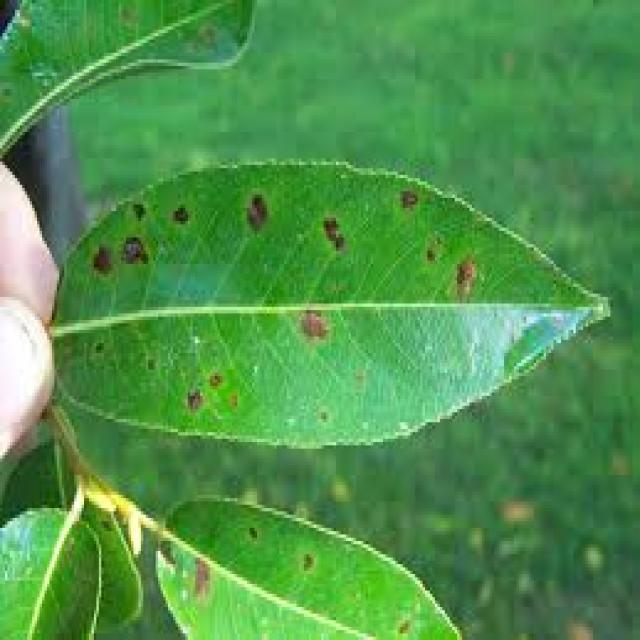black-spot: (237, 166, 429, 276), (96, 188, 203, 288)
